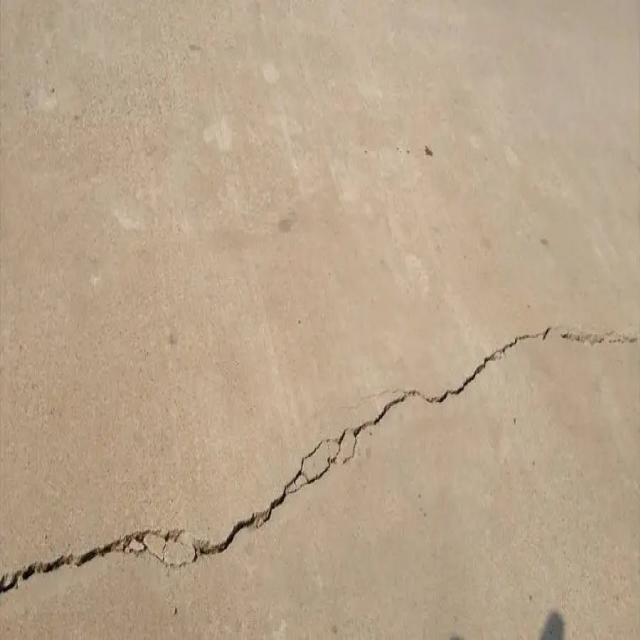Pothole: (9, 320, 634, 598)
